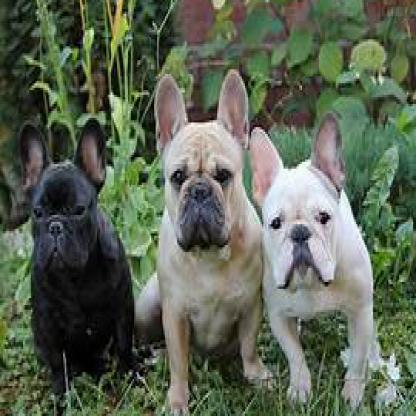dog: (136, 69, 272, 414), (249, 114, 373, 404), (20, 118, 134, 402)
